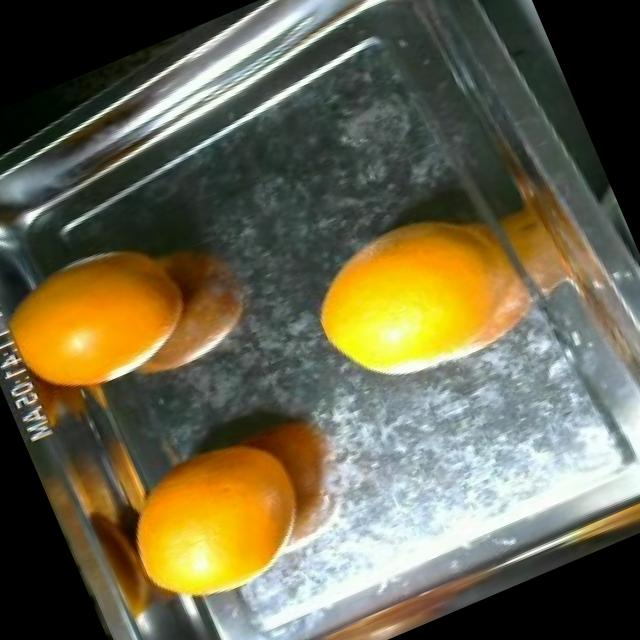Fruit: (274, 181, 532, 422), (85, 394, 342, 627), (0, 200, 221, 424)
